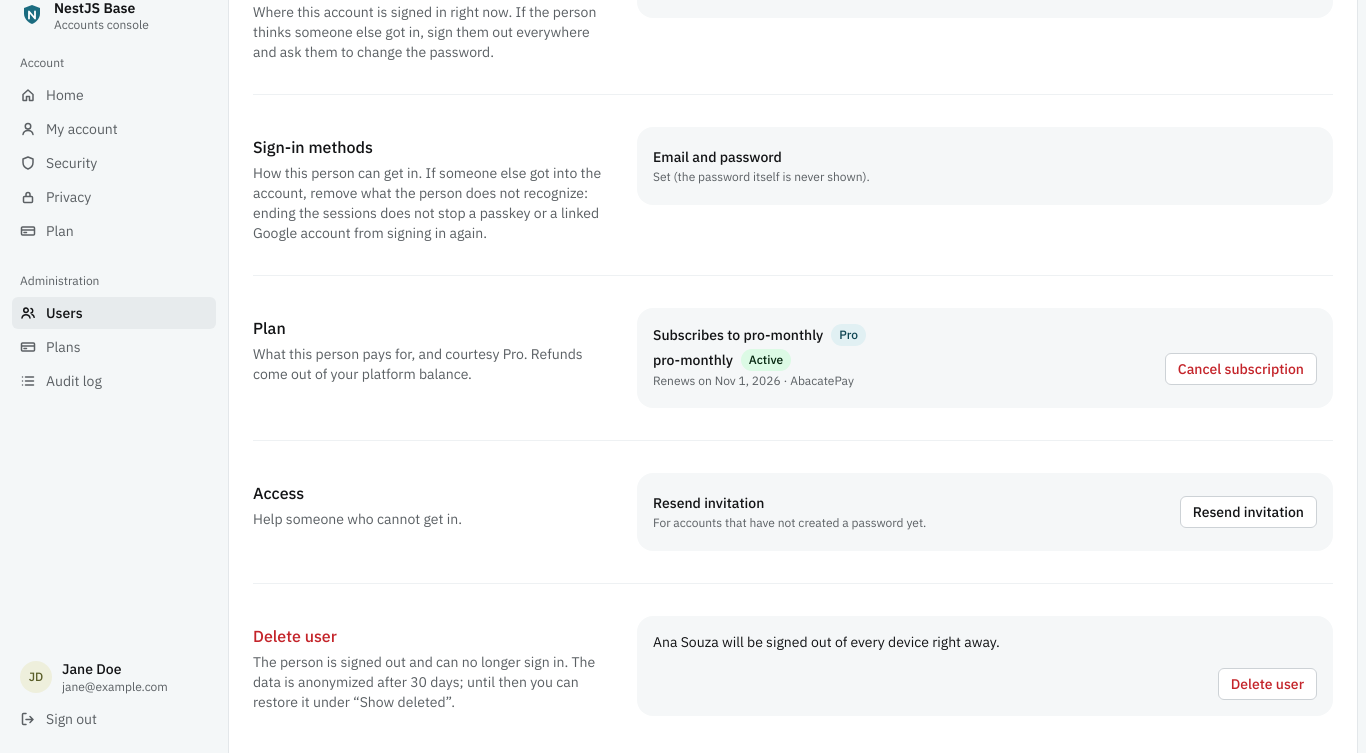
Plano do usuário (admin) › plataforma sem reembolso de assinatura: avisa para devolver pelo painel
The width and height of the screenshot is (1366, 753).
(page scrolled)
Click the button "Cancel subscription". click: (1241, 369)
box: [1165,353,1317,385]
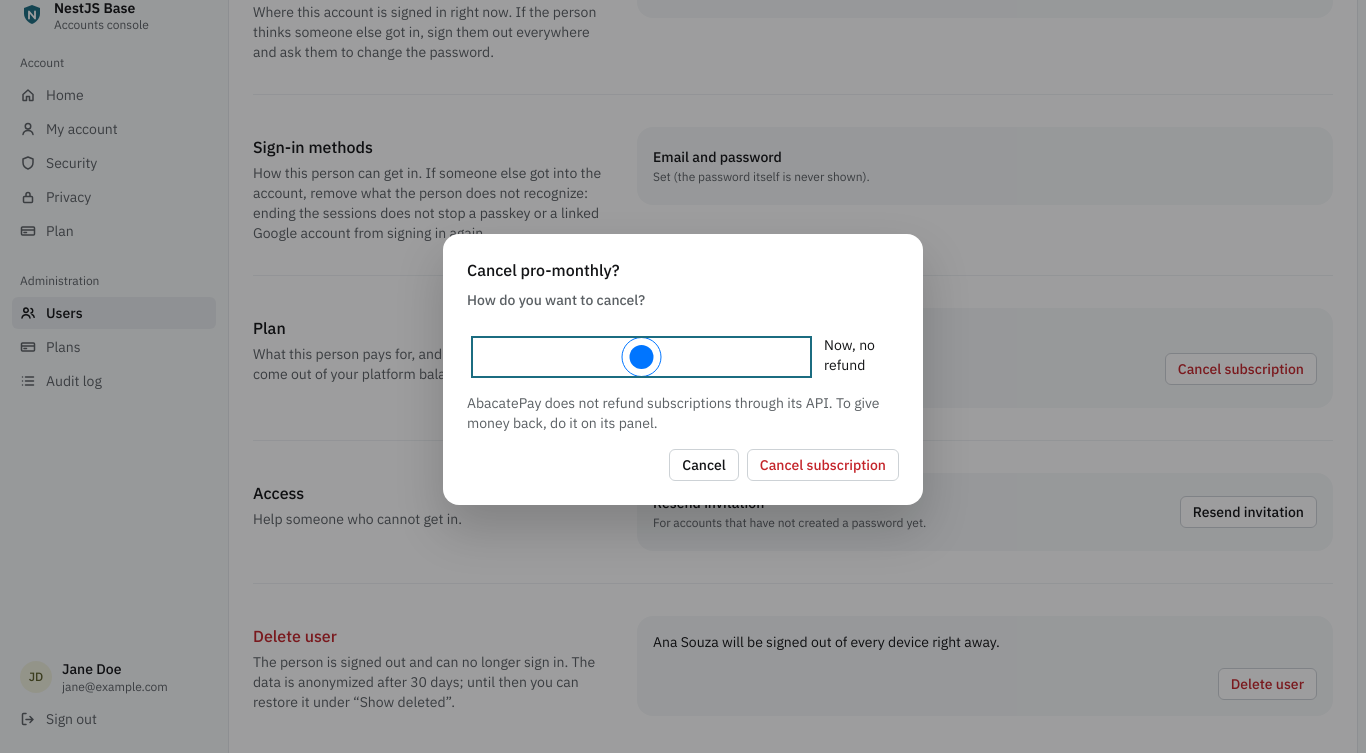
Check: the text "AbacatePay does not refund subscriptions" is shown, box [467,394,880,432]
